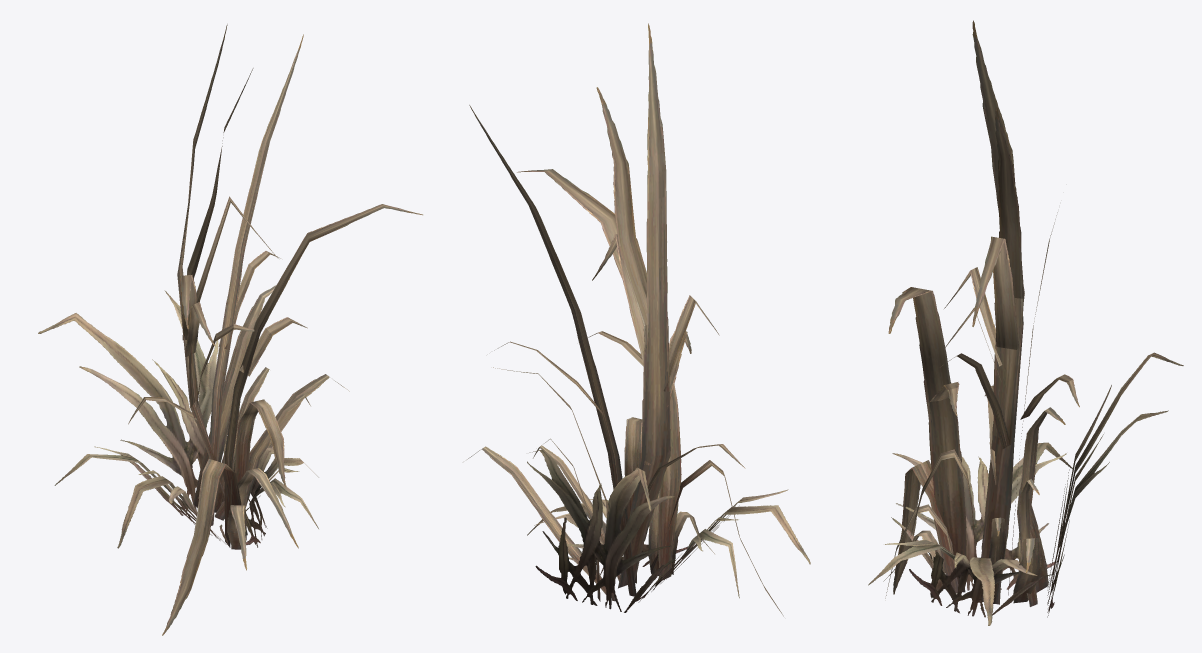
The model's file is Plant_3.FBX.
3 views of the same model, side by side, from view 1: azimuth 30°, elevation 25°; view 2: azimuth 150°, elevation 25°; view 3: azimuth 270°, elevation 25° (orthographic). The views are drawn at different scales.
Visible parts, largest first — view 1: Plant_3; view 2: Plant_3; view 3: Plant_3.
Part boxes in pixels (box(x1,y1,x2,y2)): Plant_3: box(38, 24, 422, 635); Plant_3: box(467, 23, 810, 616); Plant_3: box(868, 20, 1183, 625).
Bounding box in the file's own units: 84.32 × 151 × 72.36.
